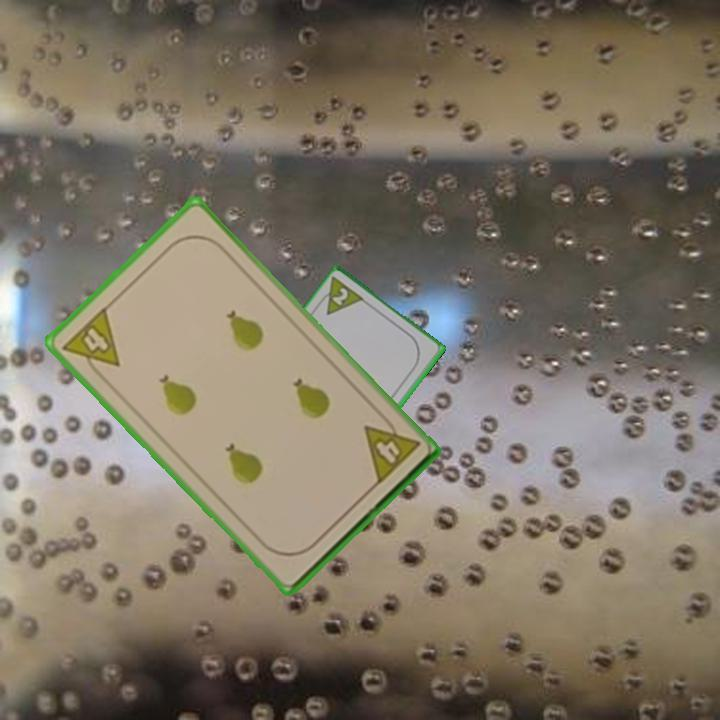2p: (313, 274, 368, 319)
4p: (58, 303, 123, 384), (360, 409, 423, 488)
